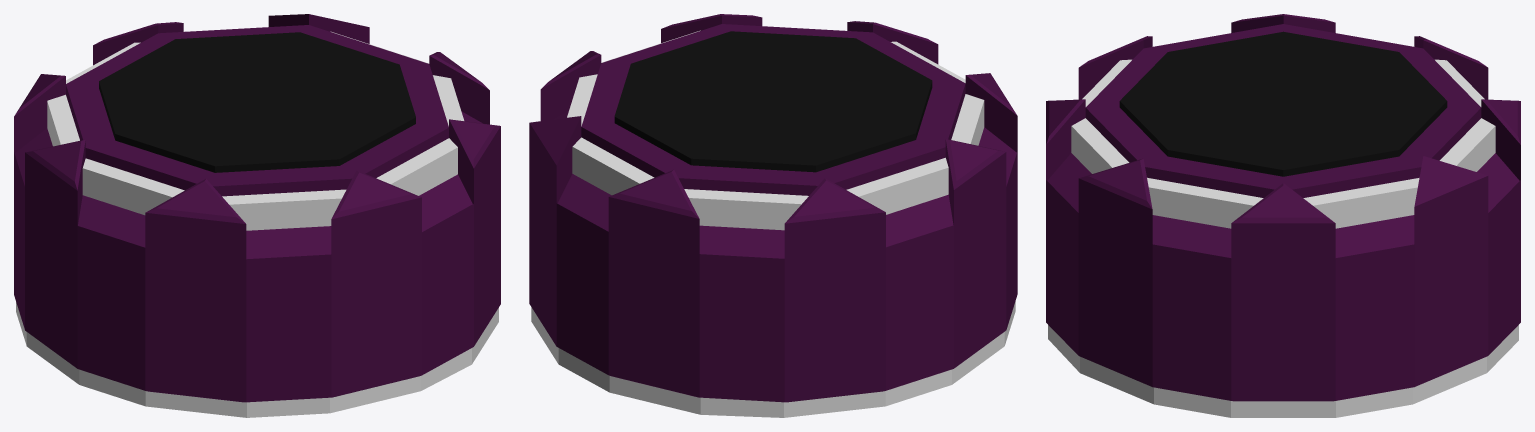
File: basic3.m.fbx
3 views of the same model, side by side, from view 1: azimuth 30°, elevation 25°; view 2: azimuth 150°, elevation 25°; view 3: azimuth 270°, elevation 25° (orthographic).
Visible parts, largest first — view 1: Cylinder, Cylinder.002, Cylinder.001, Cylinder.003; view 2: Cylinder, Cylinder.002, Cylinder.001, Cylinder.003; view 3: Cylinder, Cylinder.002, Cylinder.001, Cylinder.003.
Part boxes in pixels (<box>): Cylinder: <box>14,14,500,402</box>; Cylinder.002: <box>99,32,415,172</box>; Cylinder.001: <box>47,31,464,230</box>; Cylinder.003: <box>16,302,498,417</box>; Cylinder: <box>529,14,1017,402</box>; Cylinder.002: <box>614,31,932,172</box>; Cylinder.001: <box>567,30,984,230</box>; Cylinder.003: <box>531,301,1015,417</box>; Cylinder: <box>1046,14,1520,401</box>; Cylinder.002: <box>1119,31,1447,176</box>; Cylinder.001: <box>1071,59,1495,228</box>; Cylinder.003: <box>1048,325,1518,417</box>.
Size of the model in its own units: 183 by 96.95 by 183.
